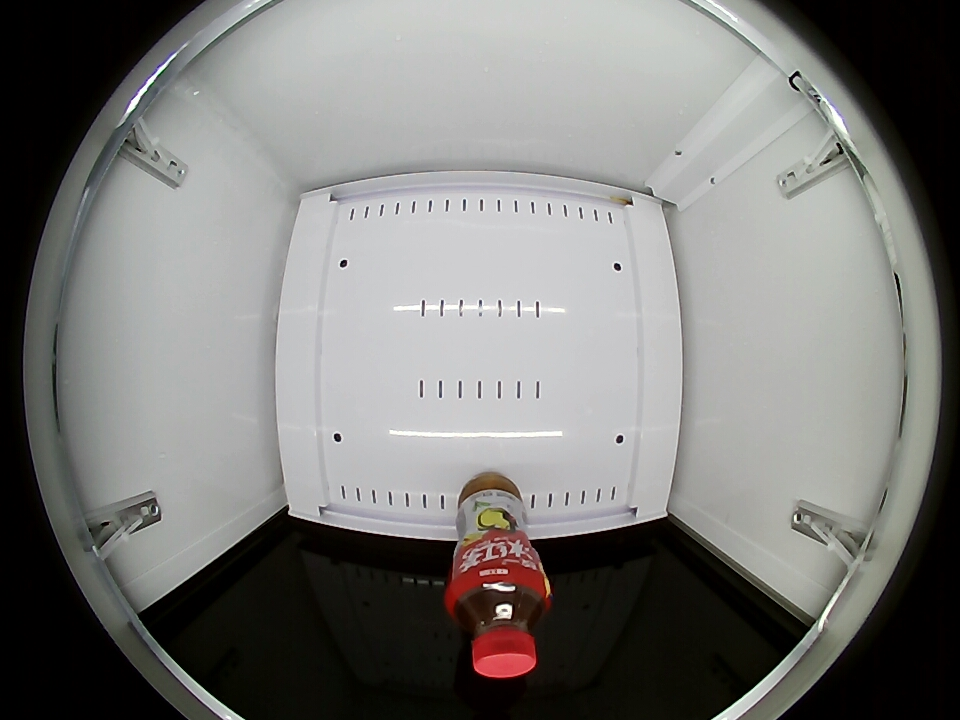binghongcha: (446, 563, 552, 679)
